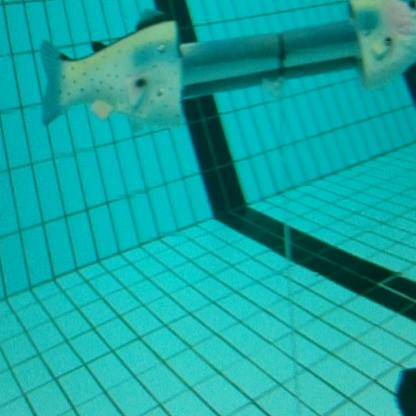tail: (38, 4, 185, 129)
